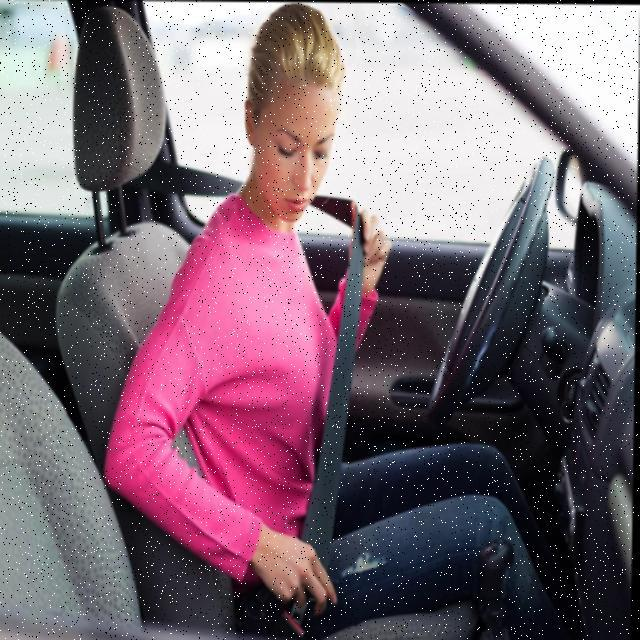seatbelt: (252, 189, 382, 632)
